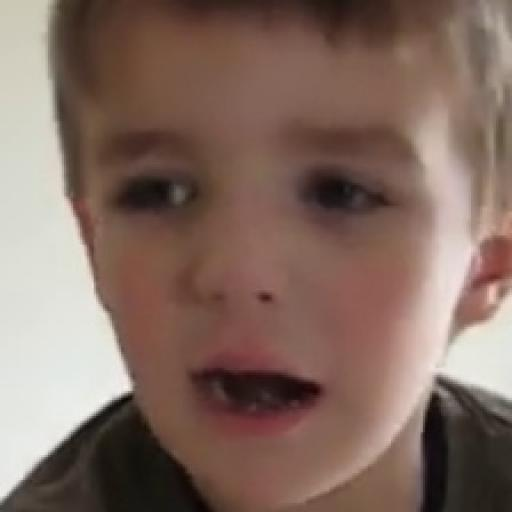Autism: (58, 24, 496, 510)
